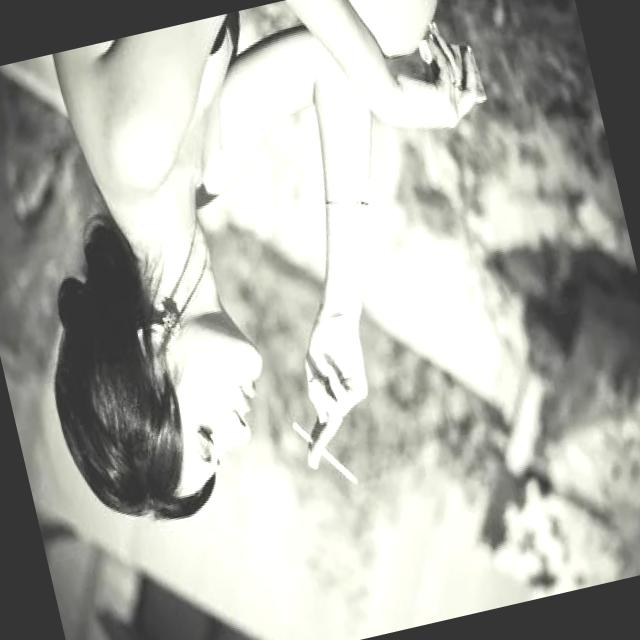cigarette: (288, 407, 360, 498)
